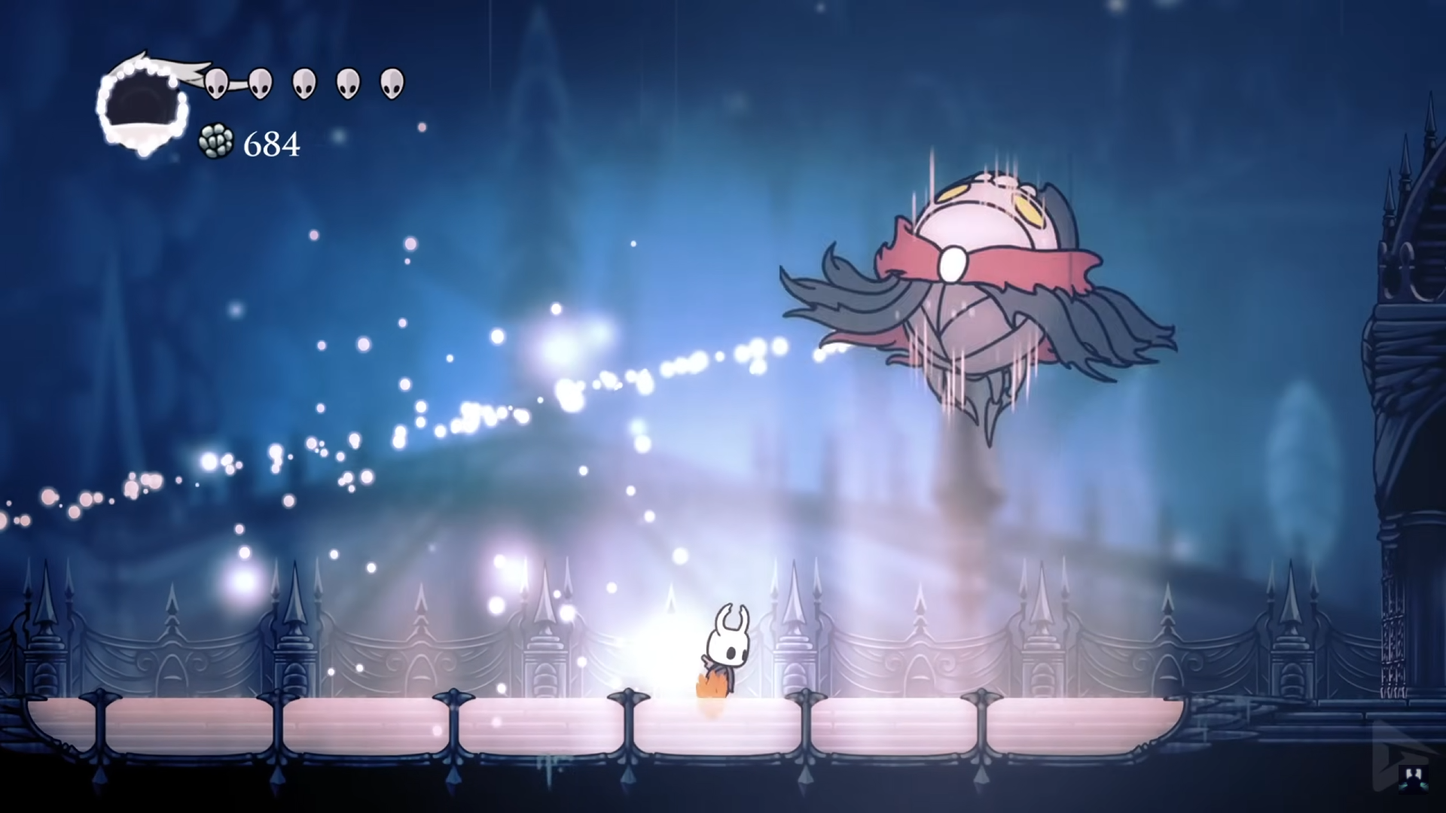HK: (694, 598, 755, 704)
